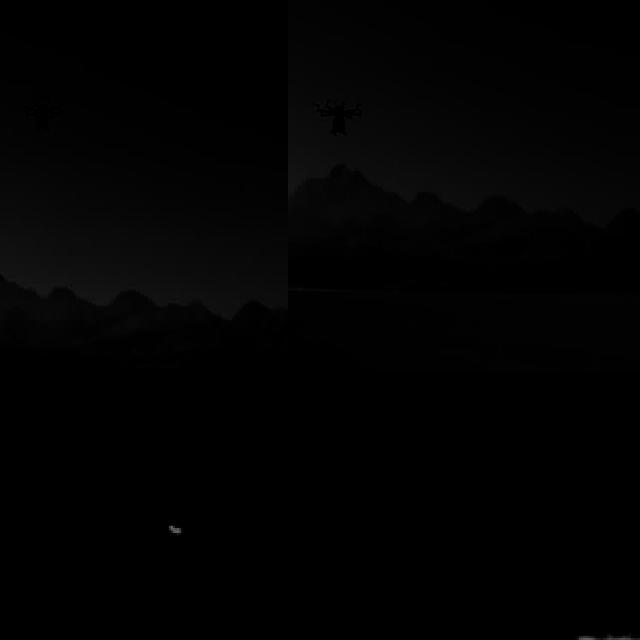1: (156, 518, 192, 548)
drone: (18, 83, 65, 140), (313, 94, 364, 143)
